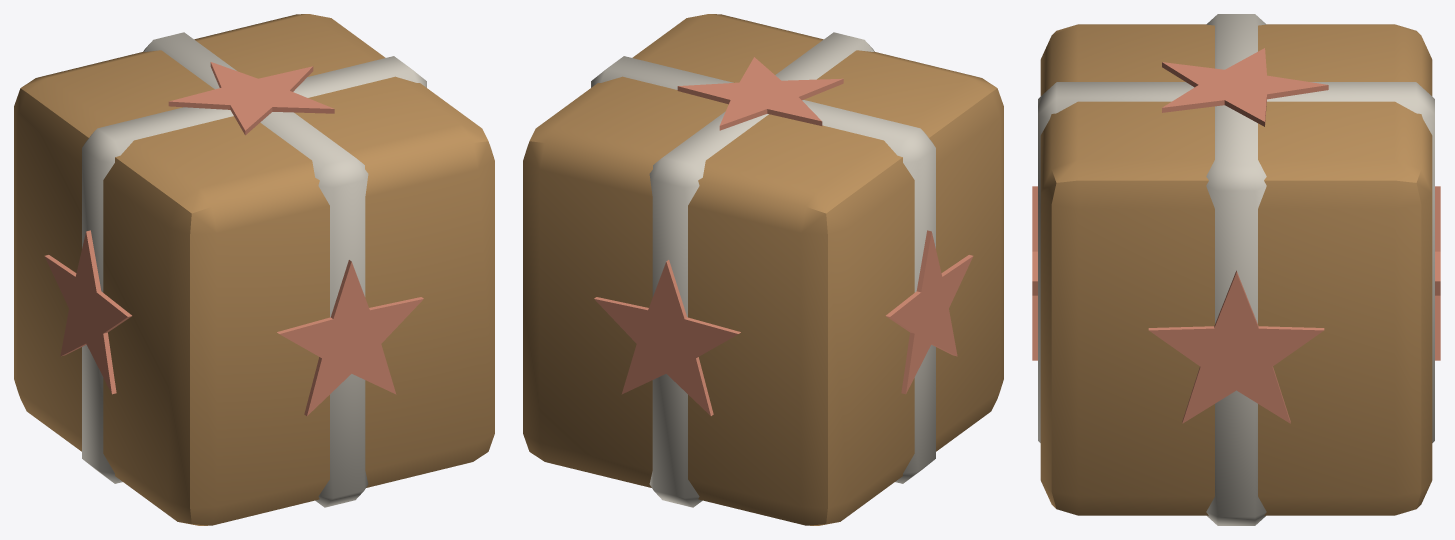
File: item_box.glb
3 views of the same model, side by side, from view 1: azimuth 30°, elevation 25°; view 2: azimuth 150°, elevation 25°; view 3: azimuth 270°, elevation 25° (orthographic). The views are drawn at different scales.
Visible parts, largest first — view 1: item_box; view 2: item_box; view 3: item_box.
Boxes of the visible parts, x1=… form: item_box: x1=14, y1=14, x2=494, y2=525; item_box: x1=523, y1=14, x2=1003, y2=525; item_box: x1=1032, y1=14, x2=1440, y2=525.
Bounding box in the file's own units: 0.438 × 0.432 × 0.438.
